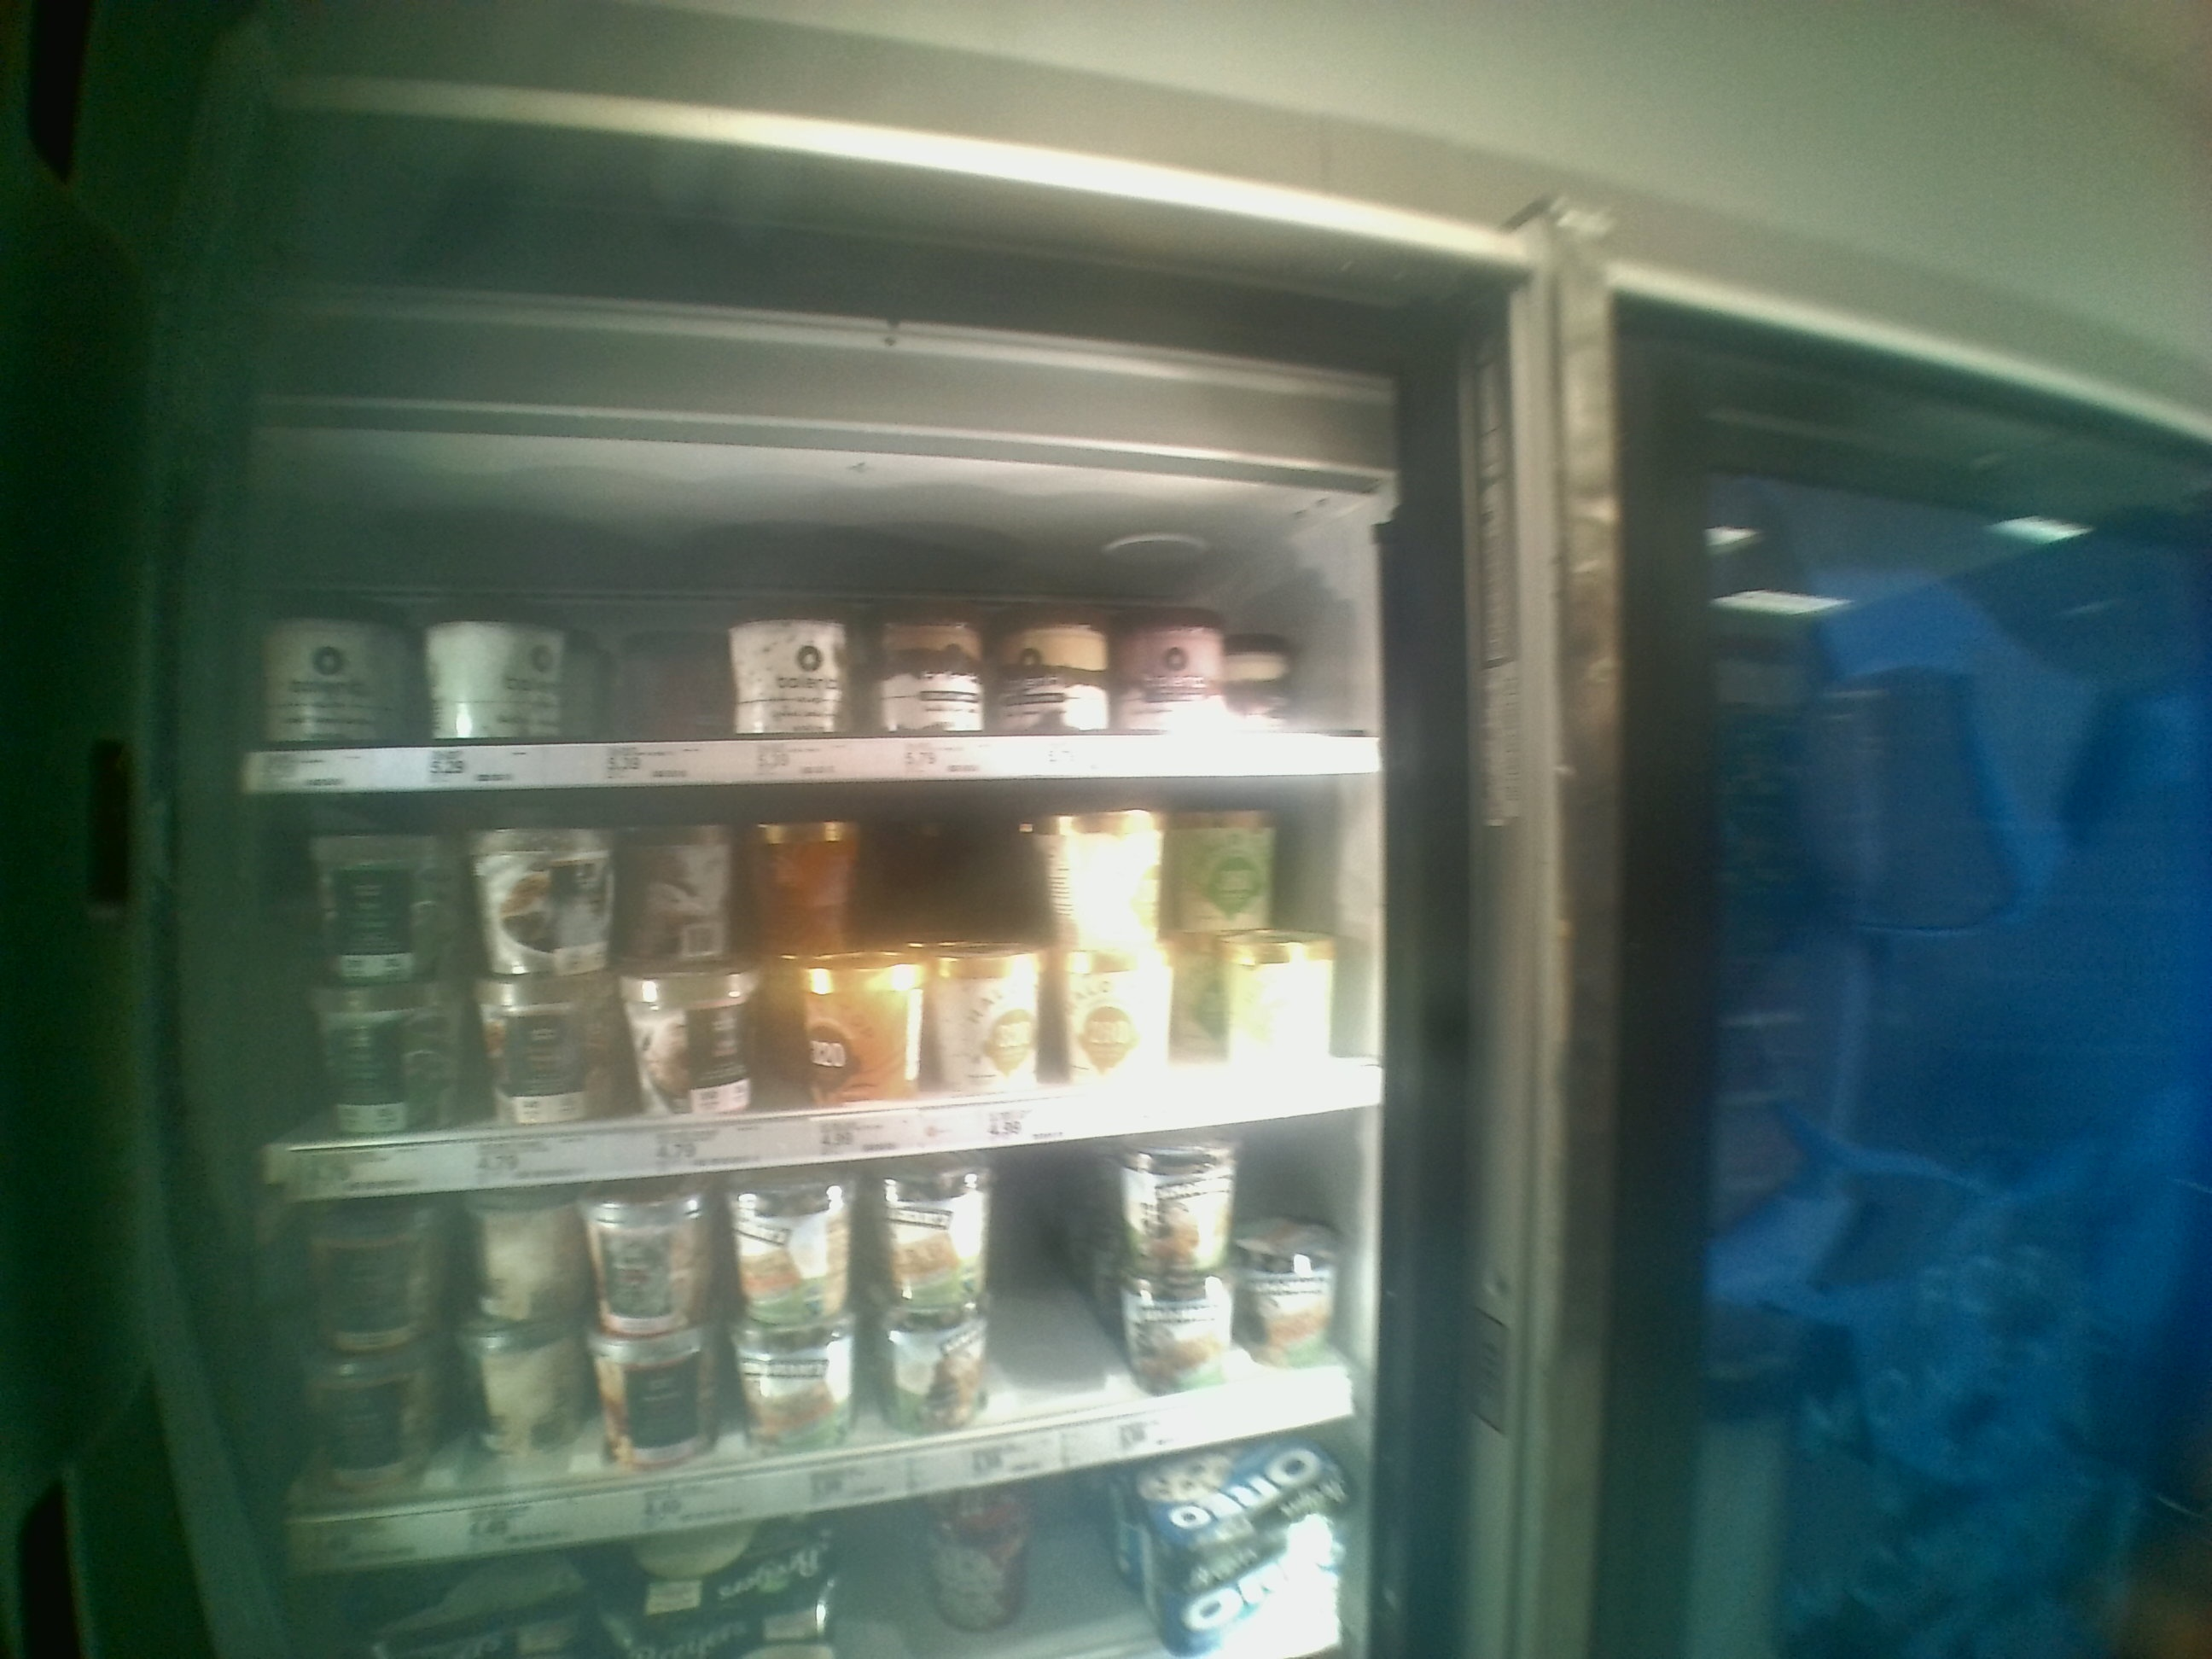ice-cream-shelf: (265, 788, 1364, 1199), (256, 471, 1362, 781)
